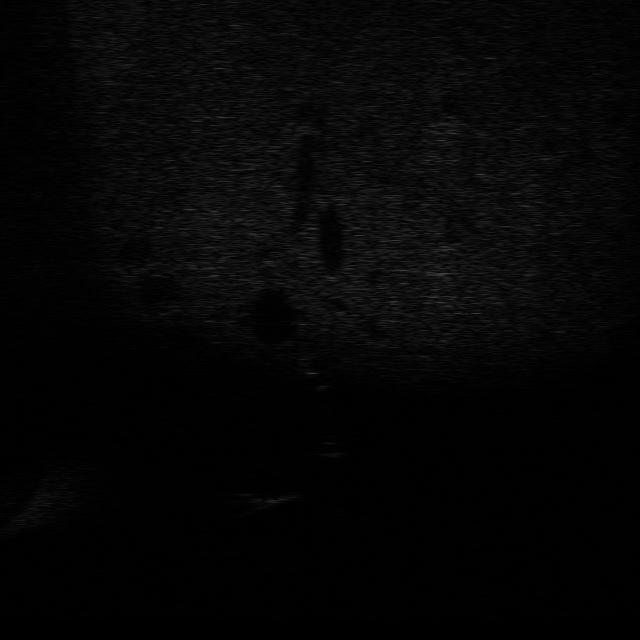ball: (315, 436, 347, 460)
human body: (292, 340, 332, 410)
square cage: (231, 483, 299, 518)
